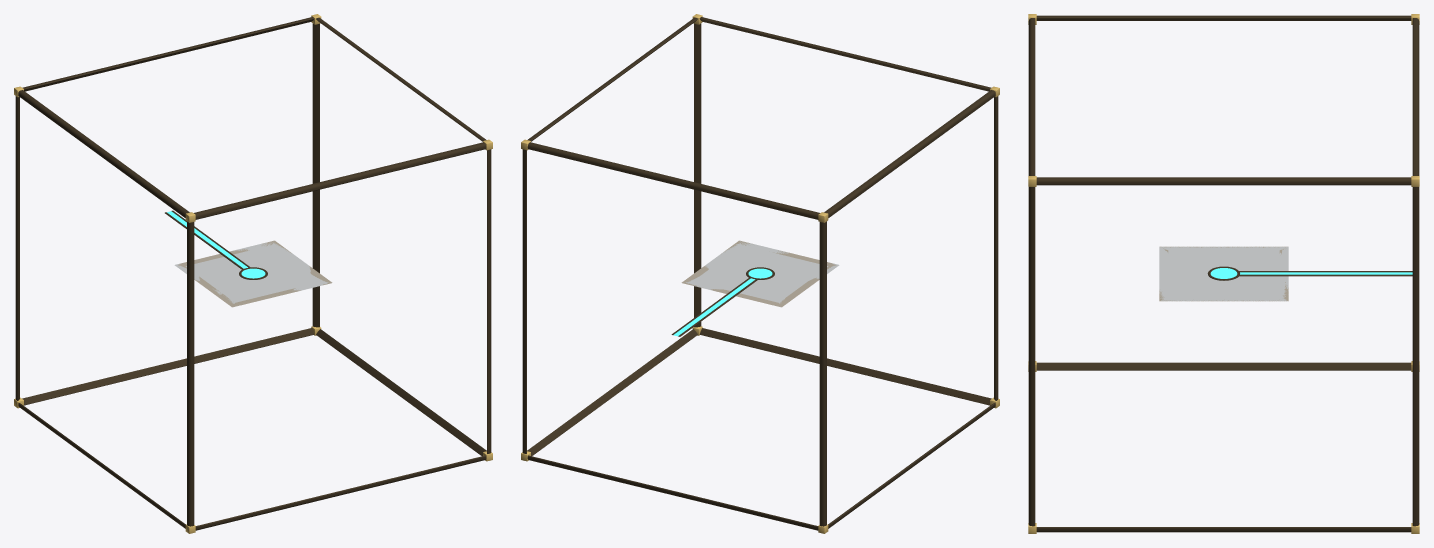
3 views of the same model, side by side, from view 1: azimuth 30°, elevation 25°; view 2: azimuth 150°, elevation 25°; view 3: azimuth 270°, elevation 25° (orthographic). The views are drawn at different scales.
Visible parts, largest first — view 1: cube_frame_bars, cube_cell_path, cube_cell_blank, cube_inlay_arm, cube_frame_bosses; view 2: cube_frame_bars, cube_cell_path, cube_cell_blank, cube_inlay_arm, cube_frame_bosses; view 3: cube_frame_bars, cube_cell_path, cube_inlay_arm, cube_frame_bosses.
Boxes of the visible parts, x1,y1,x2,y2 form: cube_frame_bars: (15,17,491,530); cube_cell_path: (174,242,328,305); cube_cell_blank: (178,240,332,307); cube_inlay_arm: (165,210,249,269); cube_frame_bosses: (14,14,492,533); cube_frame_bars: (522,17,998,530); cube_cell_path: (686,241,839,306); cube_cell_blank: (681,240,836,307); cube_inlay_arm: (671,277,757,336); cube_frame_bosses: (521,14,999,533); cube_frame_bars: (1028,15,1419,532); cube_cell_path: (1159,246,1288,301); cube_inlay_arm: (1236,271,1412,276); cube_frame_bosses: (1028,14,1419,533).
Size of the model in its own units: 12.09 by 12.09 by 12.09.
